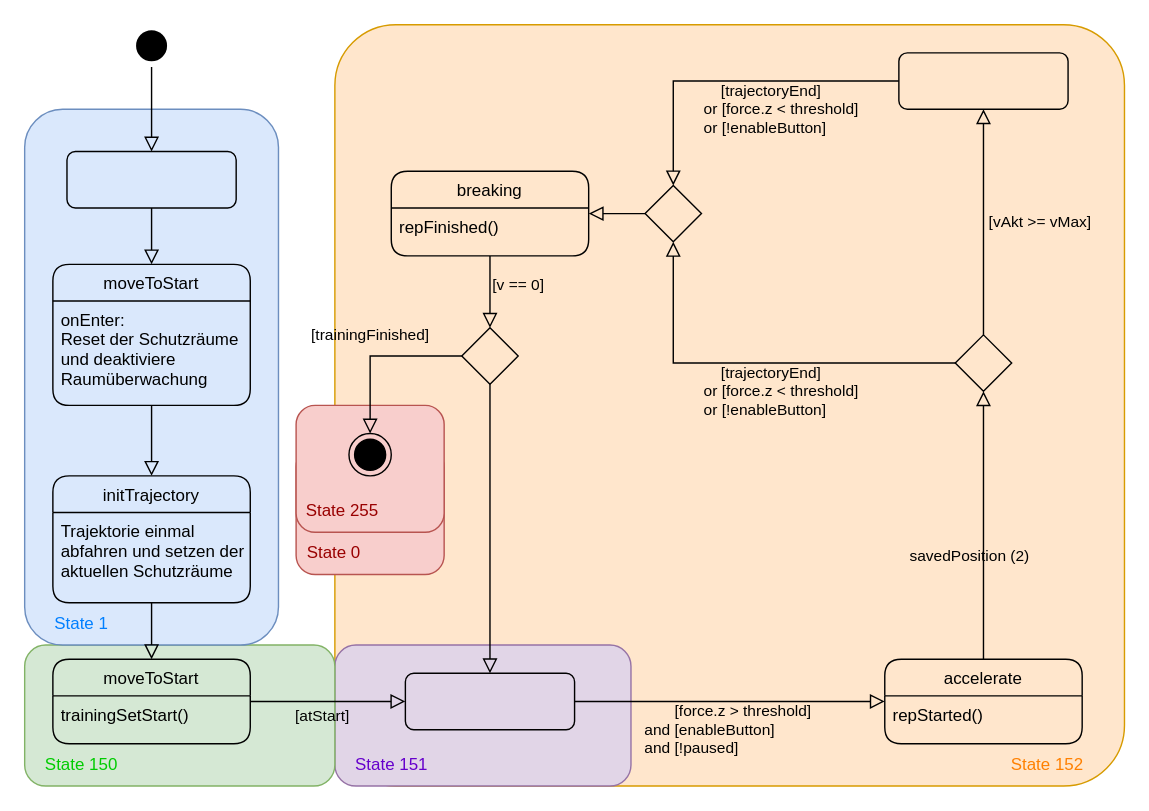
This 1149x811 diagram has some shape labels left out. Each missing label, with the centre of its shape:
checkForce: (489,701)
constant: (982,80)
Initialize: (151,179)
